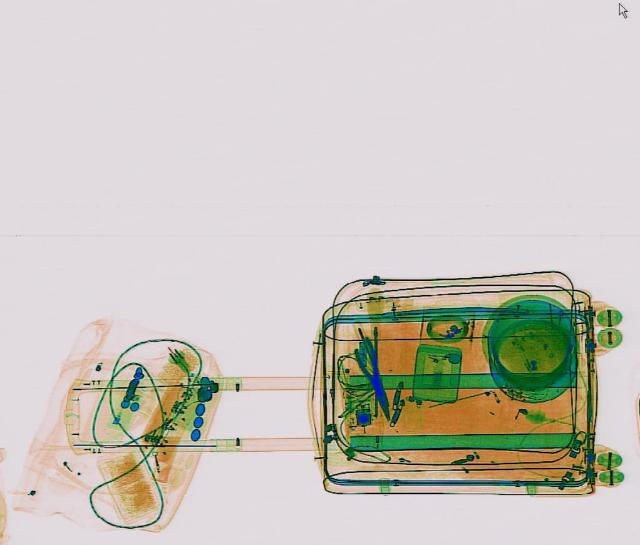Pliers: (347, 333, 399, 422)
